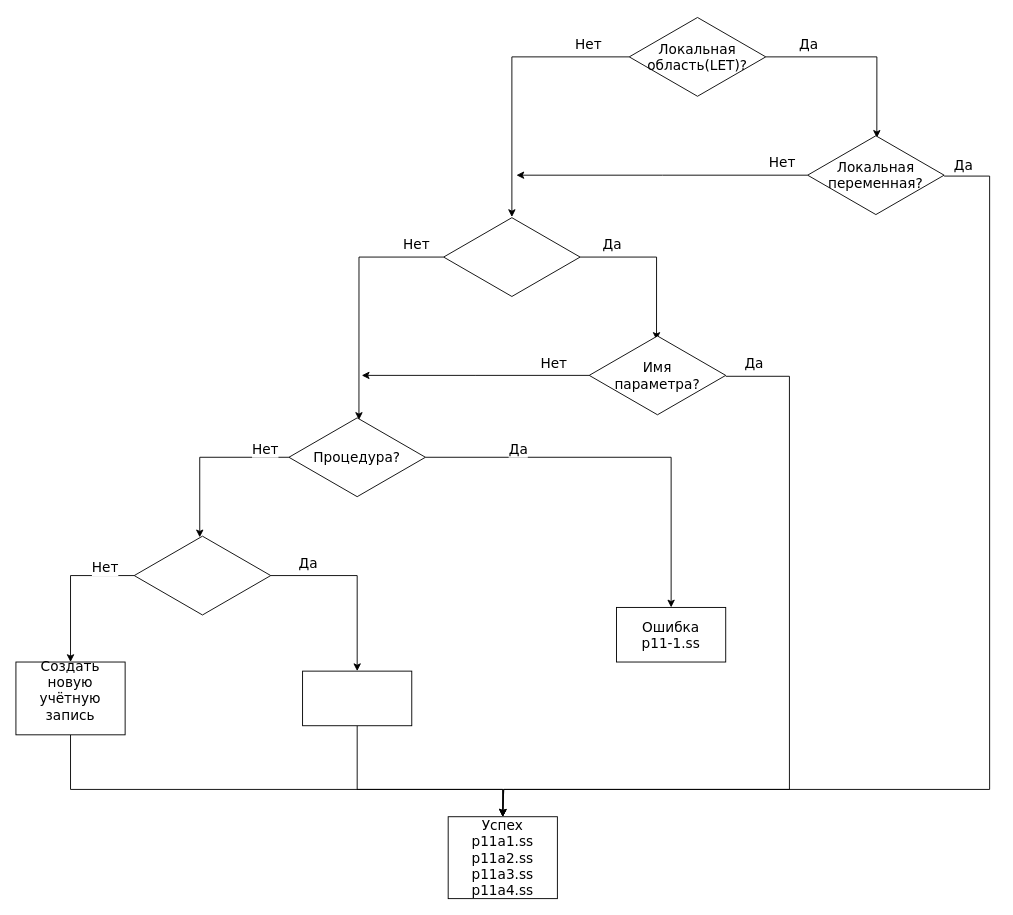
Image size: 1013x915. Some labels were removed from this diagram. Each missing label, with the box of its shape:
Имя глобальное?: (133, 534, 271, 617)
Область параметров?: (443, 215, 580, 298)
Отметить использование: (302, 670, 412, 726)
